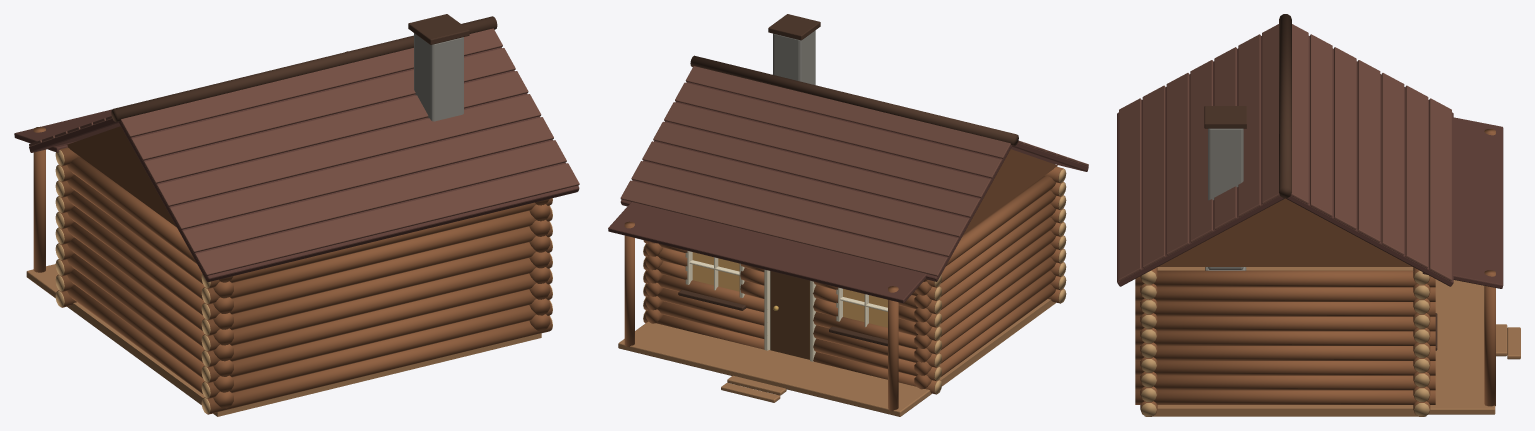
The model's file is Cabin.fbx.
3 views of the same model, side by side, from view 1: azimuth 30°, elevation 25°; view 2: azimuth 150°, elevation 25°; view 3: azimuth 270°, elevation 25° (orthographic). The views are drawn at different scales.
Parts seen in each view (by area): view 1: Log, Shingle, Roof, Trim, Floor, Chimney, Gable, LogEnd; view 2: Shingle, Log, Roof, Floor, Trim, Door, Gable, Frame, Window, Chimney, LogEnd; view 3: Shingle, Log, Roof, Floor, Gable, LogEnd, Trim, Chimney.
Boxes of the visible parts, x1=… form: Log: x1=33, y1=51, x2=552, y2=414; Shingle: x1=29, y1=28, x2=579, y2=275; Roof: x1=14, y1=47, x2=579, y2=282; Trim: x1=111, y1=14, x2=497, y2=122; Floor: x1=26, y1=264, x2=541, y2=416; Chimney: x1=414, y1=33, x2=463, y2=121; Gable: x1=67, y1=126, x2=176, y2=227; LogEnd: x1=55, y1=150, x2=552, y2=413; Shingle: x1=620, y1=66, x2=1088, y2=276; Log: x1=624, y1=166, x2=1064, y2=411; Roof: x1=608, y1=82, x2=1088, y2=303; Floor: x1=618, y1=299, x2=1055, y2=416; Trim: x1=678, y1=14, x2=1018, y2=346; Door: x1=770, y1=271, x2=809, y2=359; Gable: x1=963, y1=149, x2=1057, y2=234; Frame: x1=685, y1=251, x2=887, y2=361; Window: x1=692, y1=252, x2=887, y2=327; Chimney: x1=773, y1=30, x2=815, y2=84; LogEnd: x1=643, y1=169, x2=1066, y2=393; Shingle: x1=1119, y1=24, x2=1451, y2=281; Log: x1=1135, y1=129, x2=1495, y2=416; Roof: x1=1117, y1=36, x2=1503, y2=288; Floor: x1=1144, y1=267, x2=1520, y2=416; Gable: x1=1158, y1=198, x2=1412, y2=266; LogEnd: x1=1141, y1=270, x2=1429, y2=416; Trim: x1=1204, y1=14, x2=1437, y2=350; Chimney: x1=1205, y1=128, x2=1246, y2=270.
Bounding box in the file's own units: 2400 × 1795 × 2367.
